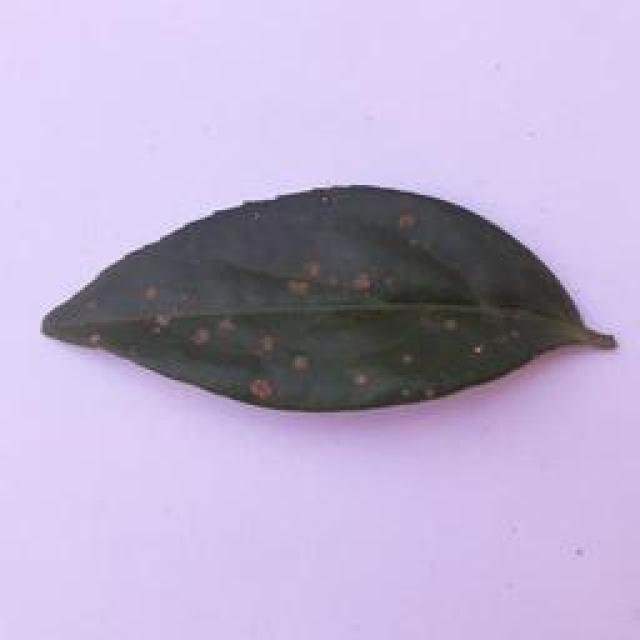Algal Leaf Spot: (39, 172, 640, 424)
